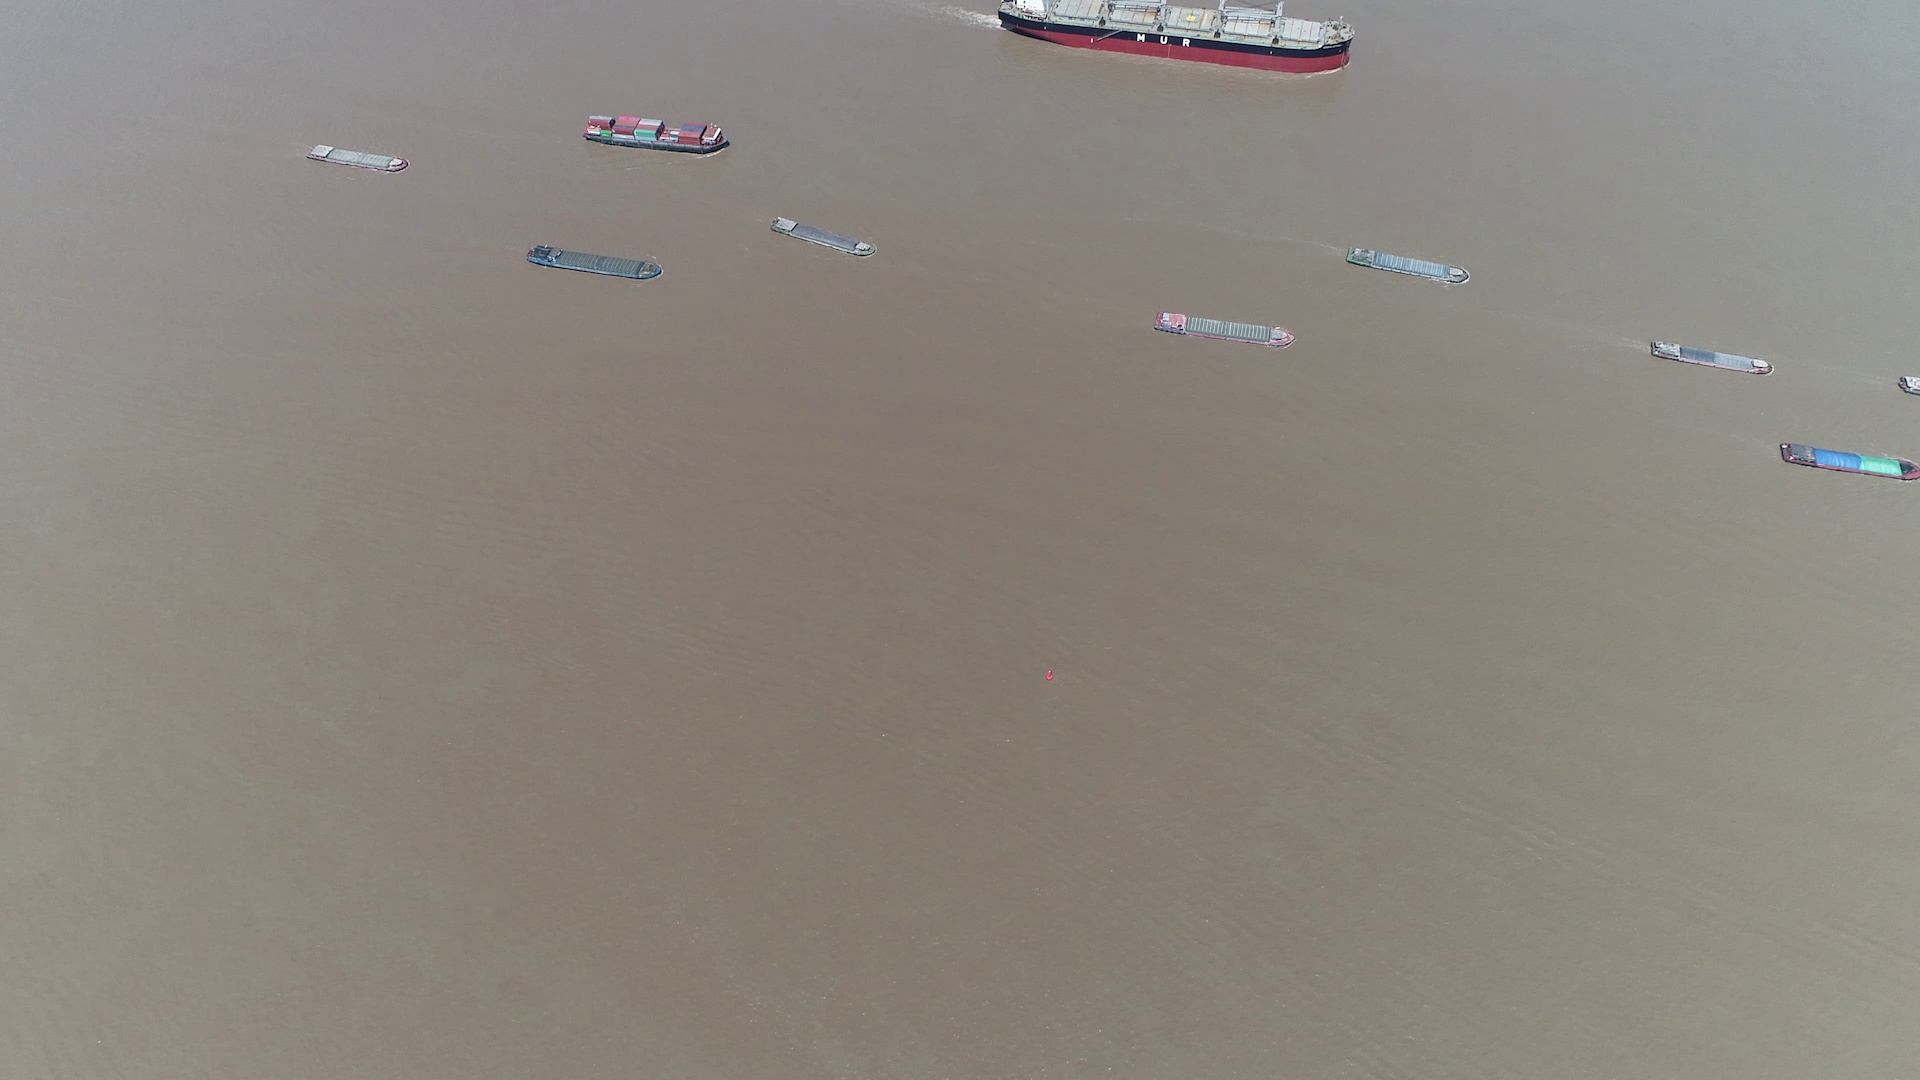ship: (1000, 0, 1350, 71), (582, 113, 731, 153), (1778, 442, 1919, 483), (1345, 243, 1472, 285), (1156, 310, 1294, 348), (526, 244, 661, 282), (1648, 338, 1774, 376), (773, 215, 878, 258), (306, 142, 409, 171)
